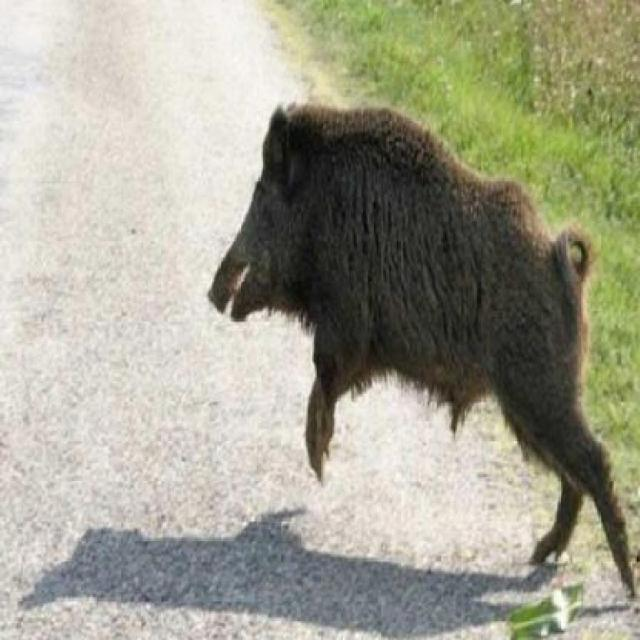wildboar: (201, 76, 640, 618)
